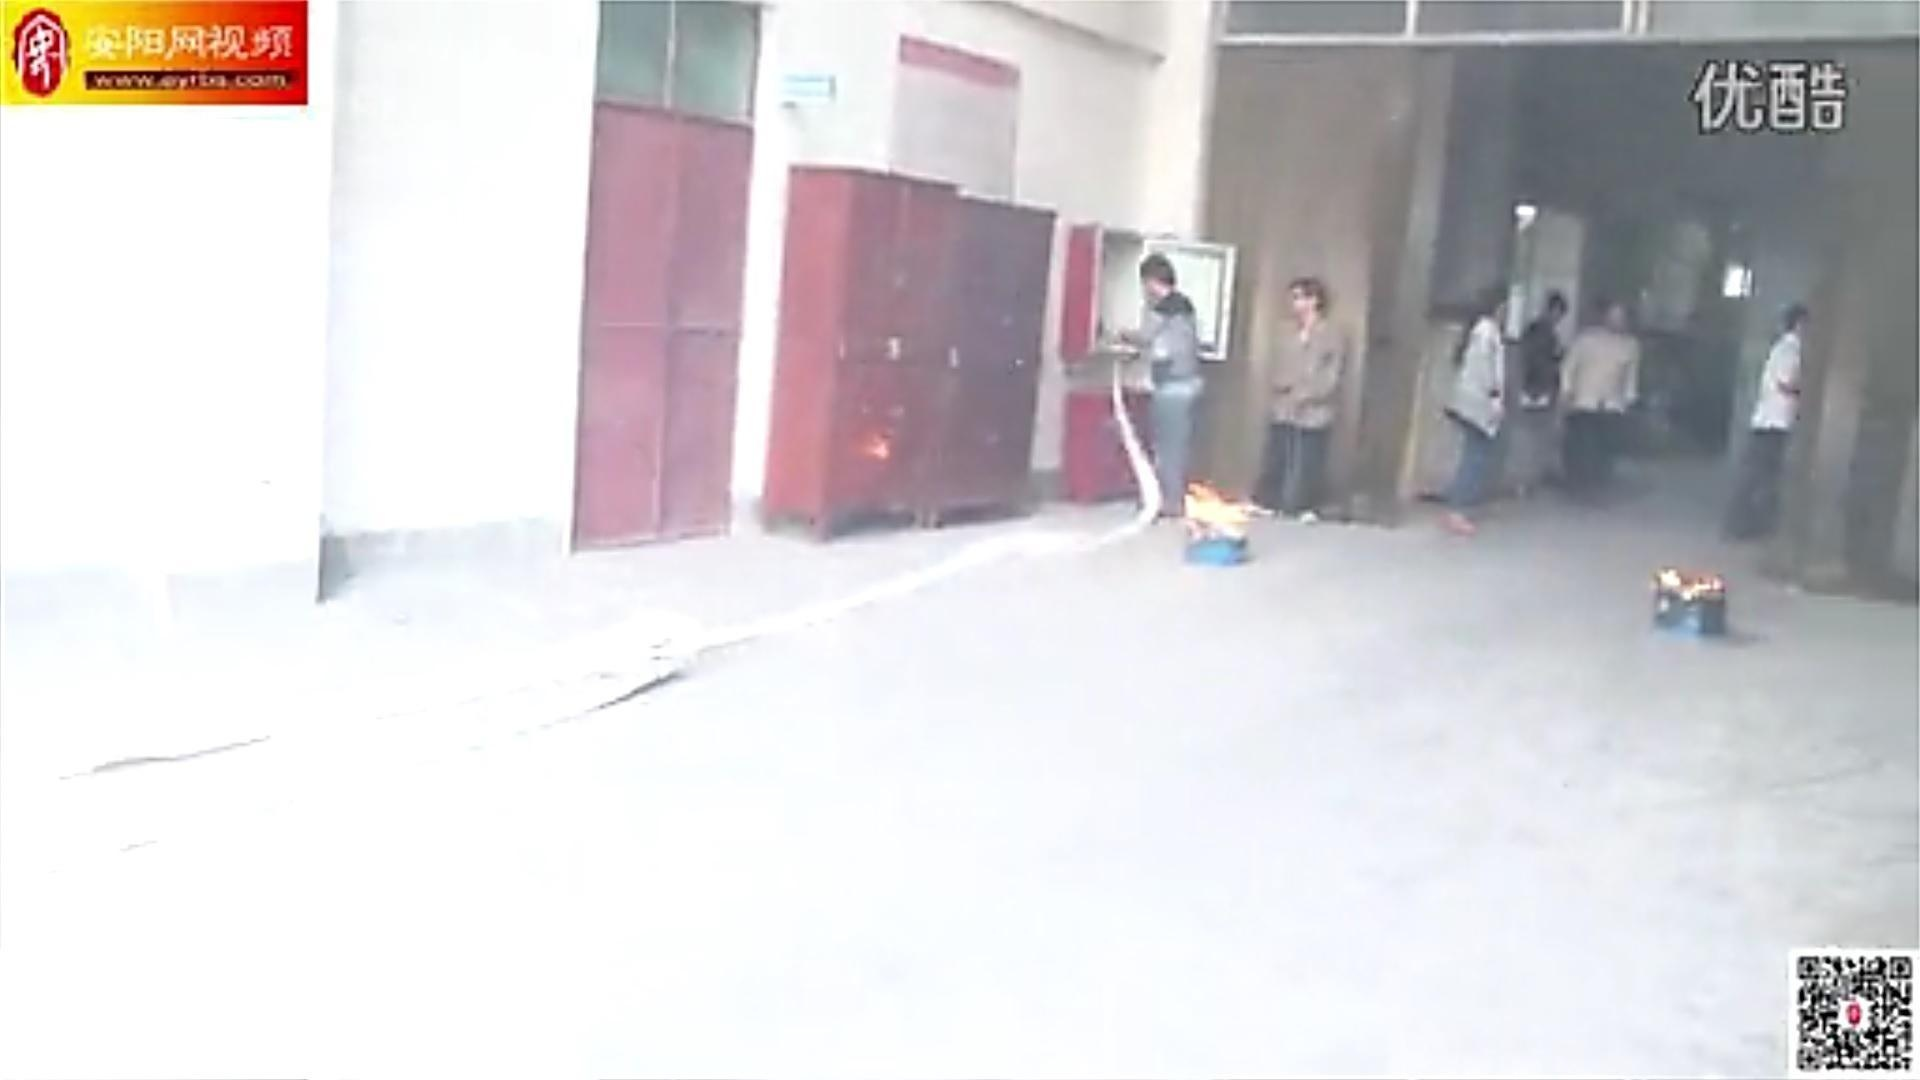fire: (1178, 479, 1255, 549), (1648, 560, 1727, 607)
